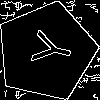Y: (21, 26, 75, 70)
